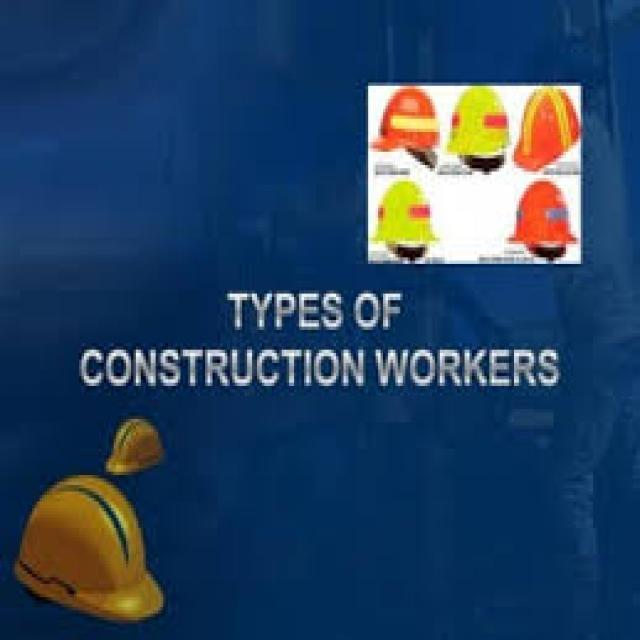Safety-Helmet: (5, 468, 168, 634), (368, 77, 446, 172), (508, 175, 584, 264), (372, 177, 444, 270), (519, 84, 590, 174), (94, 404, 172, 479), (454, 78, 514, 175)
